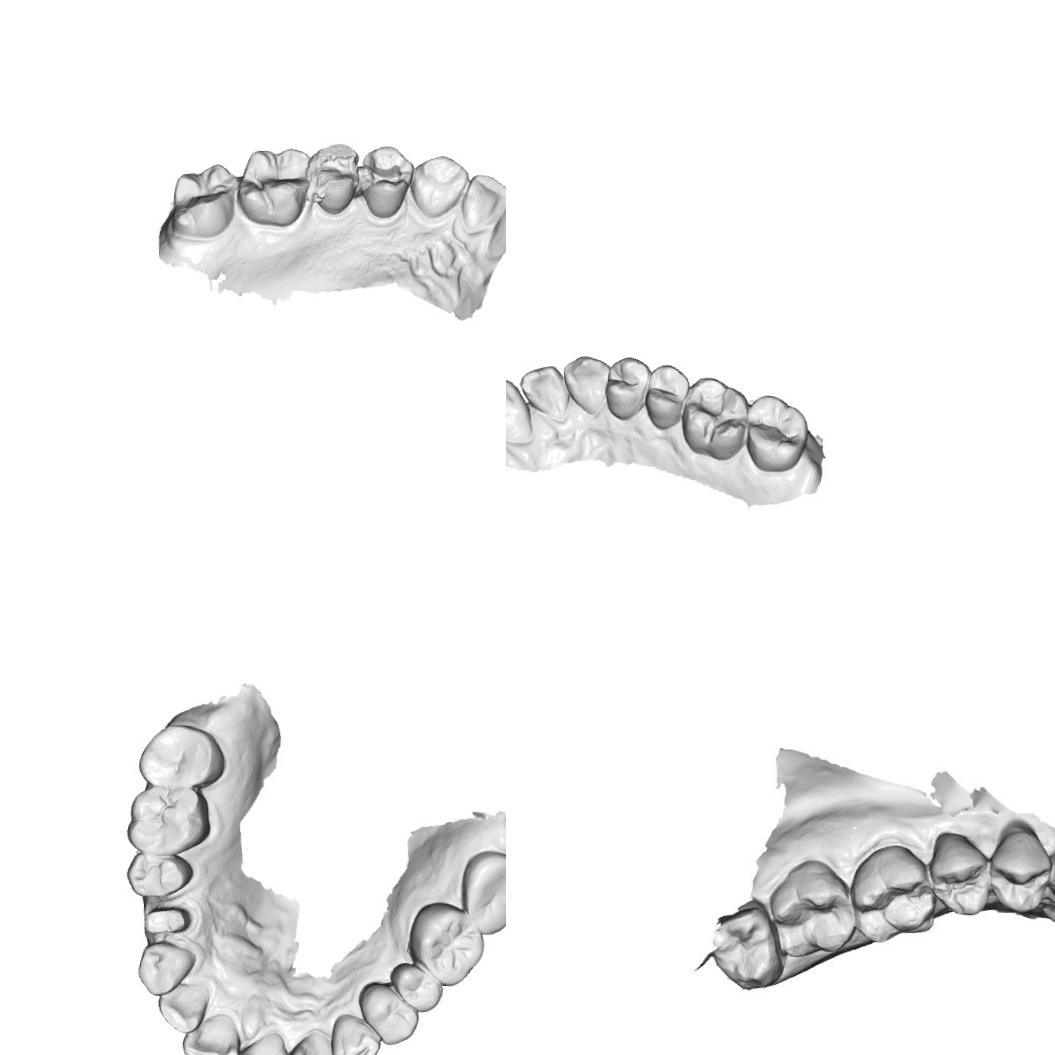canine: (406, 151, 472, 222), (135, 936, 198, 998), (558, 352, 610, 416), (327, 1010, 383, 1055)
crown: (141, 899, 200, 937)
incisor: (457, 170, 506, 237), (516, 362, 569, 419), (155, 980, 210, 1034), (179, 1008, 242, 1055), (506, 374, 535, 444), (232, 1027, 293, 1055), (287, 1026, 339, 1055)
inlay: (358, 152, 406, 201)
molar: (766, 853, 858, 958), (846, 841, 936, 945), (405, 898, 488, 988), (707, 902, 786, 991), (124, 782, 213, 860), (234, 143, 311, 229), (135, 721, 227, 792), (678, 373, 748, 462), (168, 158, 240, 243), (741, 391, 811, 475), (457, 847, 506, 938)
premolar: (926, 829, 992, 917), (992, 821, 1054, 910), (355, 978, 422, 1046), (303, 140, 362, 217), (124, 849, 195, 900), (641, 360, 691, 432), (602, 353, 650, 422), (387, 959, 445, 1014)
